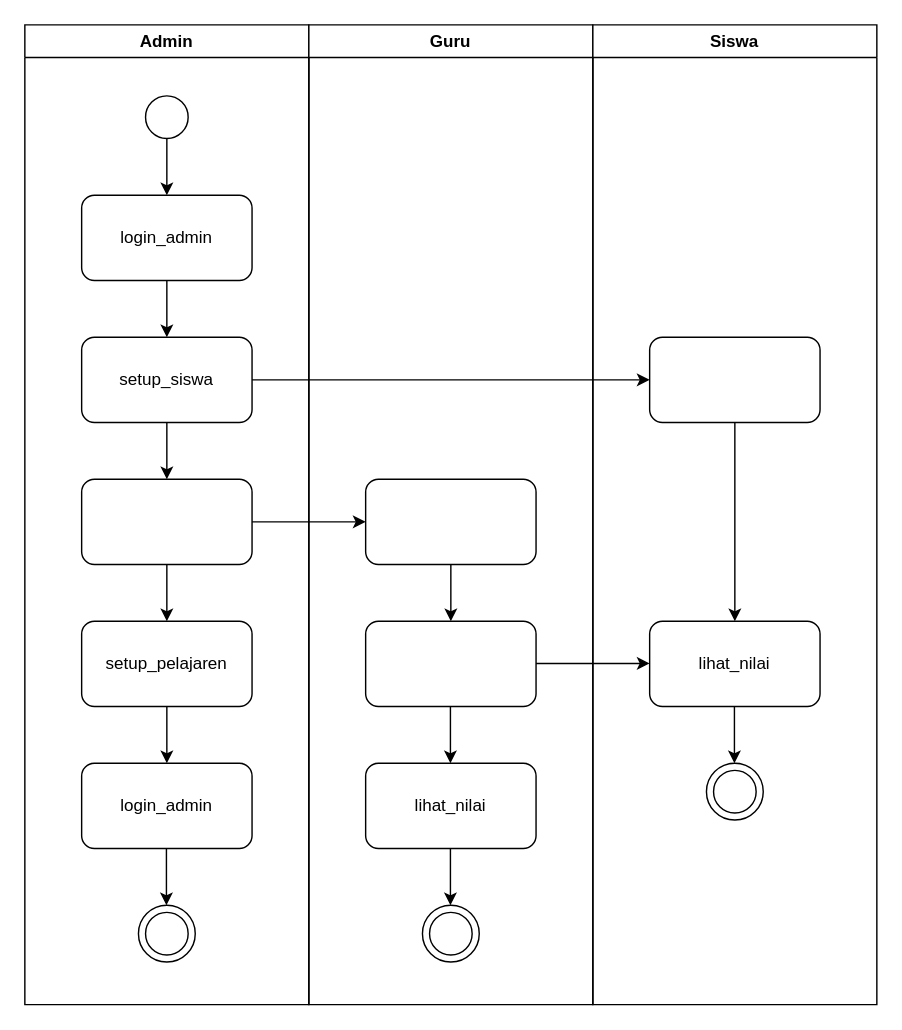
This 902x1030 diagram has some shape labels left out. Each missing label, with the box of its shape:
input_nilai: (364, 620, 536, 706)
login_guru: (364, 478, 536, 564)
login_siswa: (648, 336, 820, 422)
setup_guru: (80, 478, 252, 564)
